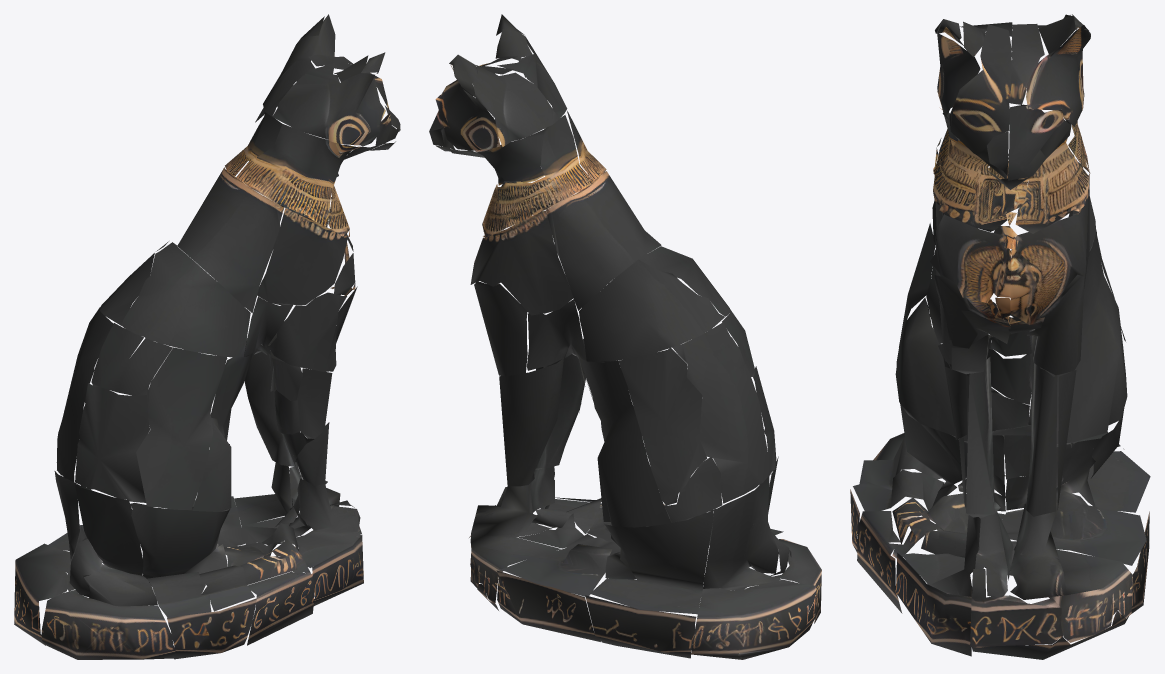
Rendered from cat_LOD1.glb.
The picture shows the model from 3 angles, left to right: view 1: azimuth 30°, elevation 25°; view 2: azimuth 150°, elevation 25°; view 3: azimuth 270°, elevation 25°; orthographic projection. The views are drawn at different scales.
Parts seen in each view (by area): view 1: tripo_node_379d5842-eb10-4c20-8187-42f442f389f2; view 2: tripo_node_379d5842-eb10-4c20-8187-42f442f389f2; view 3: tripo_node_379d5842-eb10-4c20-8187-42f442f389f2.
Boxes of the visible parts, x1=… form: tripo_node_379d5842-eb10-4c20-8187-42f442f389f2: x1=14, y1=14, x2=400, y2=659; tripo_node_379d5842-eb10-4c20-8187-42f442f389f2: x1=429, y1=14, x2=821, y2=659; tripo_node_379d5842-eb10-4c20-8187-42f442f389f2: x1=850, y1=14, x2=1150, y2=659.
Size of the model in its own units: 0.7351 by 1.01 by 0.4182.
1 material, 1 textured.
